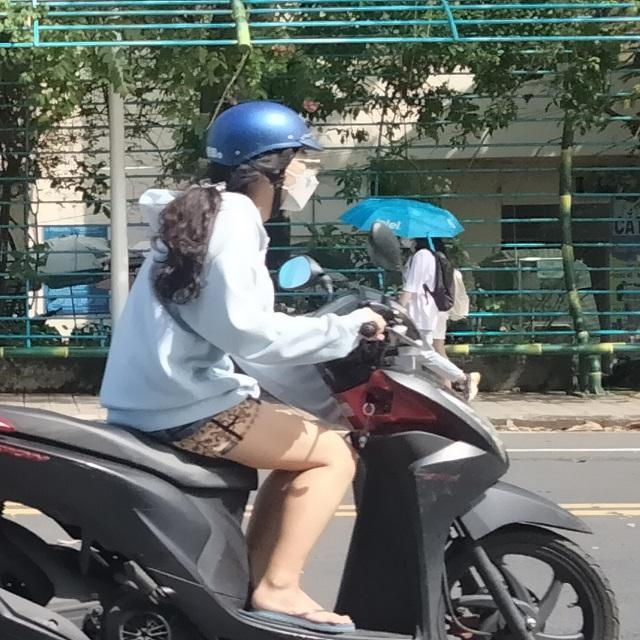Helmet: (200, 96, 328, 234)
